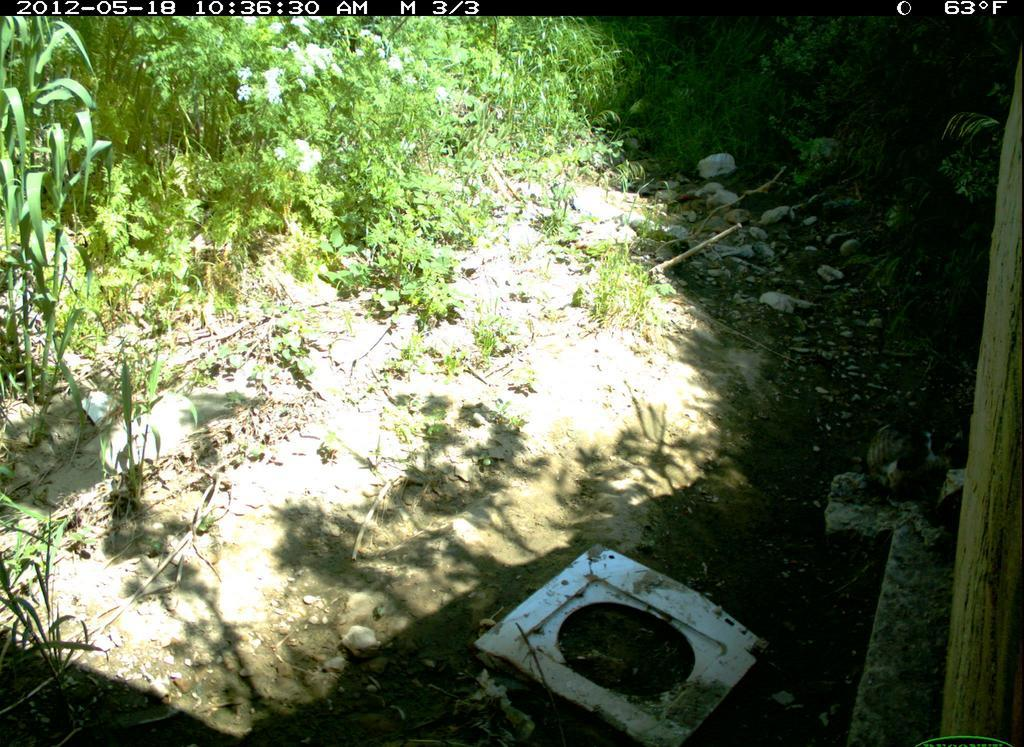cat: (847, 386, 950, 547)
